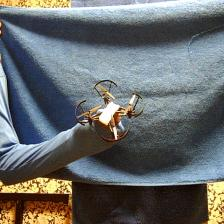drone: (73, 76, 148, 145)
